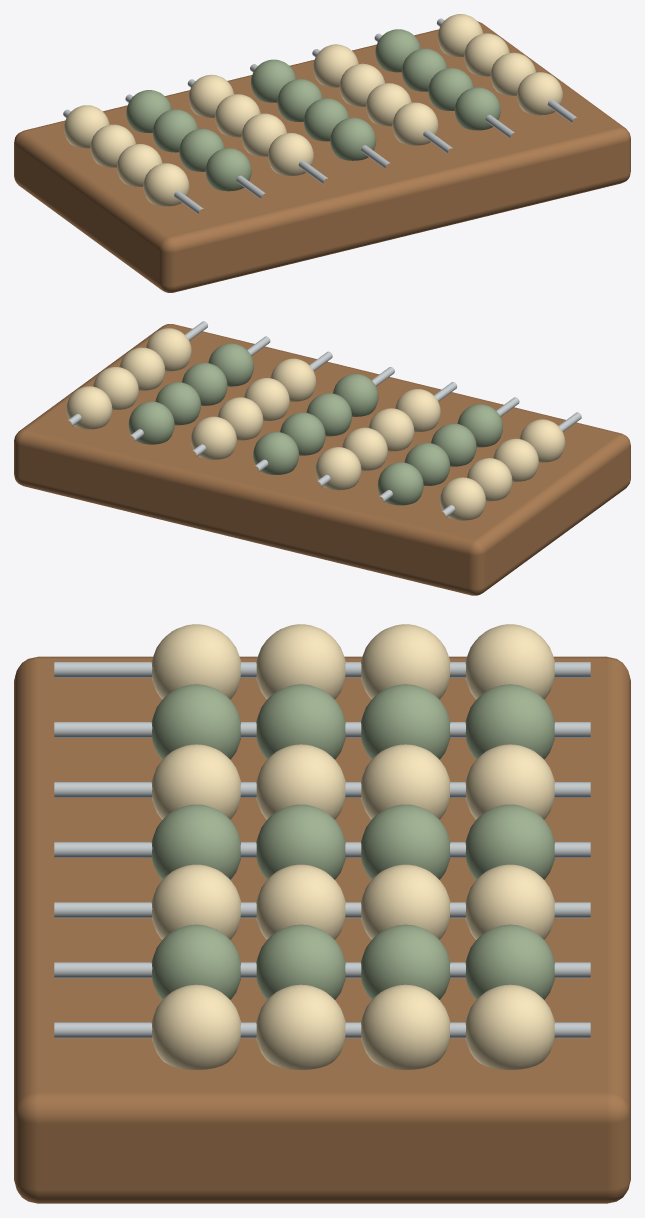
Rendered from desert-caravanserai-and-bazaar-abacus-13c25a35__30467.glb.
3 views of the same model, one above another, from view 1: azimuth 30°, elevation 25°; view 2: azimuth 150°, elevation 25°; view 3: azimuth 270°, elevation 25° (orthographic). The views are drawn at different scales.
Parts seen in each view (by area): view 1: abacus; view 2: abacus; view 3: abacus.
Part boxes in pixels (x1,y1,x2,y2): abacus: (14,14,630,292); abacus: (14,321,630,595); abacus: (14,624,630,1203).
Bounding box in the file's own units: 0.4 × 0.072 × 0.23.
